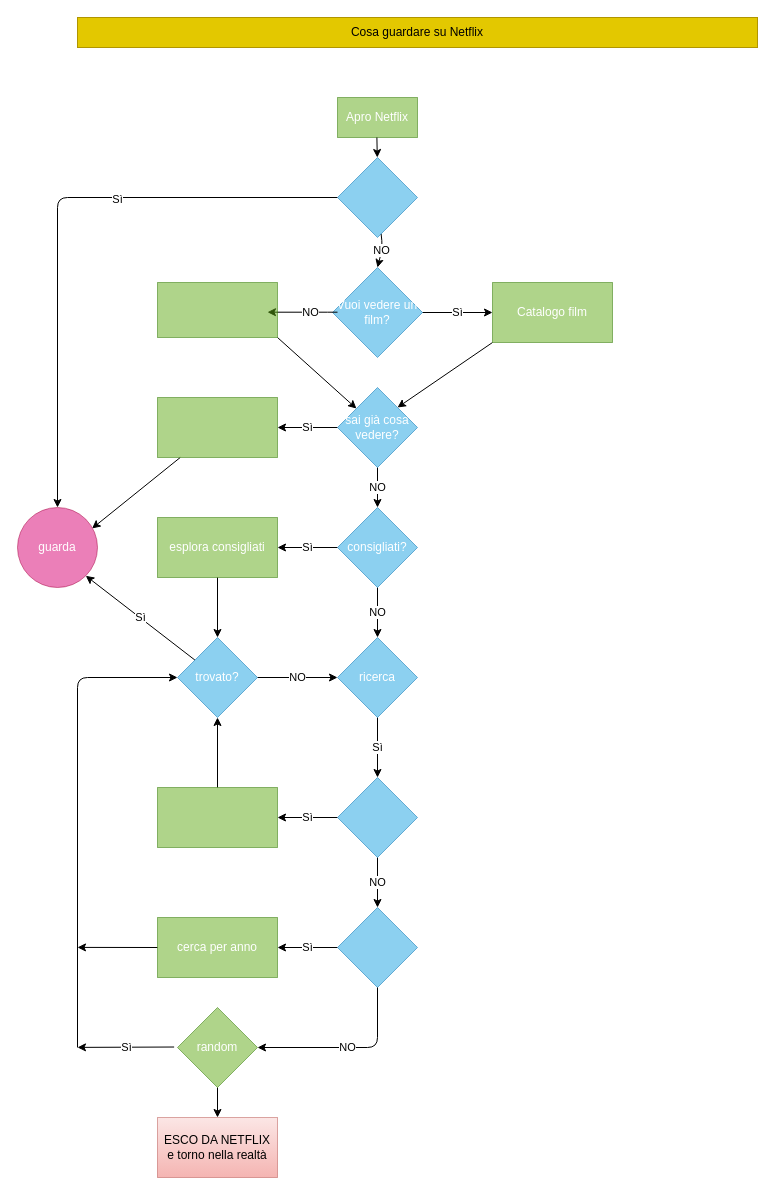
The diagram is 775 pixels wide and 1195 high, and some of its shapes have lost their labels. The shapes that lost their labels are listed below. From the top down, each one's centre as x and y in pixels, then its label:
(377,197): continua a guardare
(217,310): Catalogo serie
(217,427): cerca il film / serie tv
(217,817): cerca per genere
(377,817): genere?
(377,947): anno?
